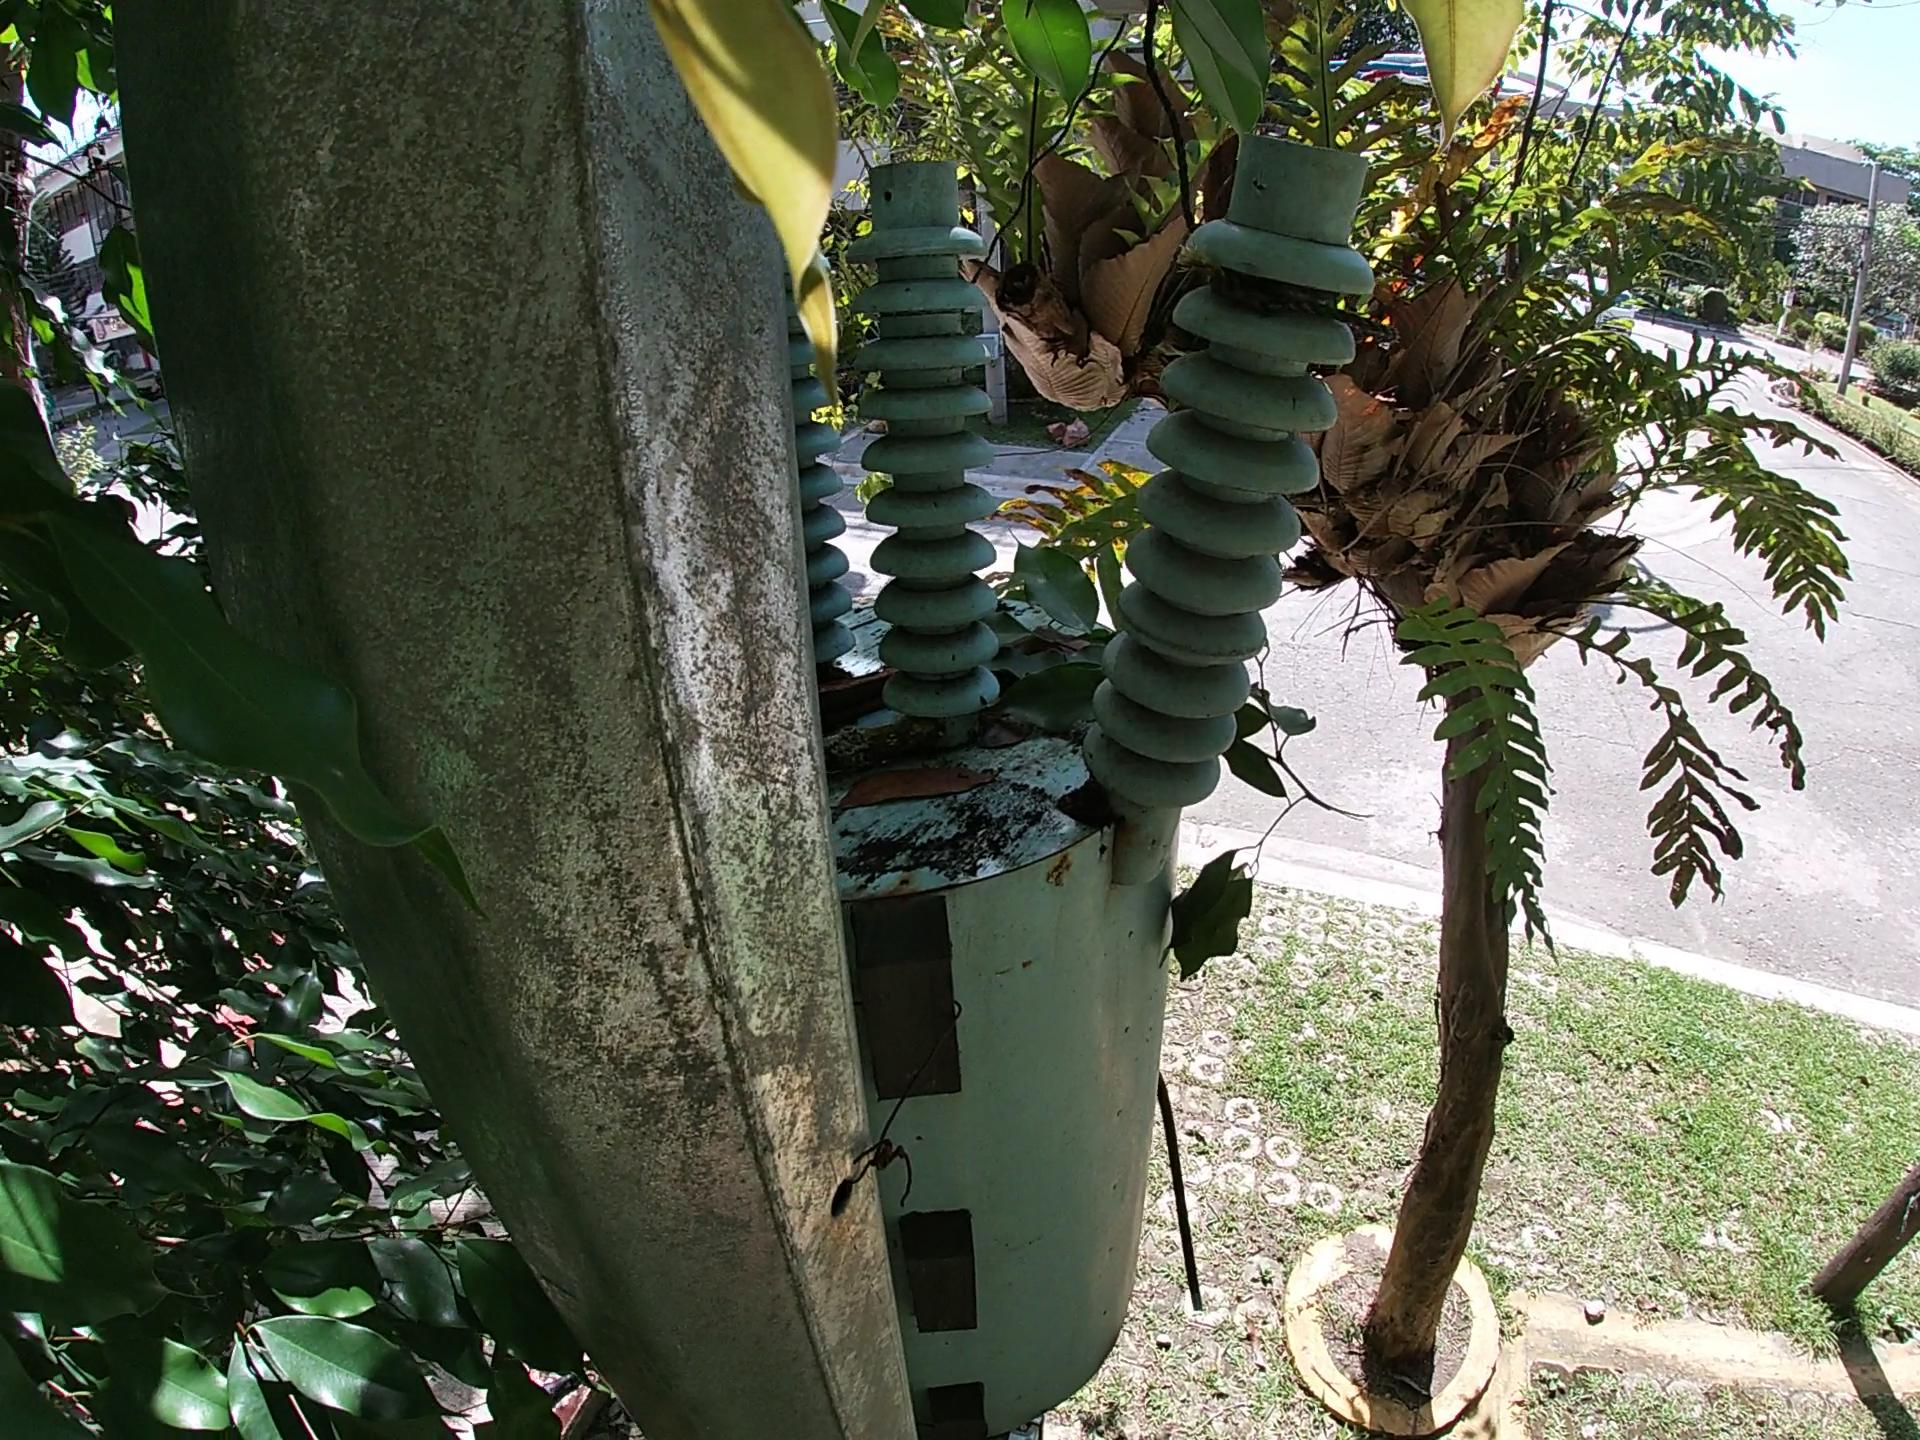branch with leaves: (1166, 634, 1374, 1029)
leaf: (987, 525, 1101, 740), (838, 762, 995, 817)
mahogany fruit: (806, 664, 913, 714)
tree branch: (816, 717, 962, 761)
